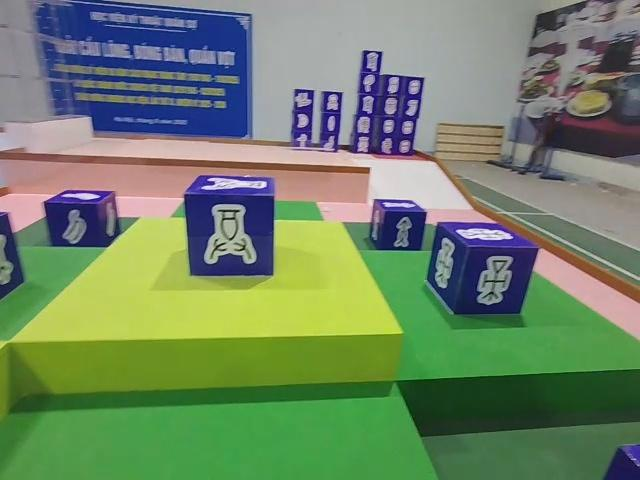R2 Real Blue: (428, 223, 539, 319), (182, 174, 277, 278), (43, 190, 121, 250), (366, 199, 425, 253), (0, 212, 26, 321)
